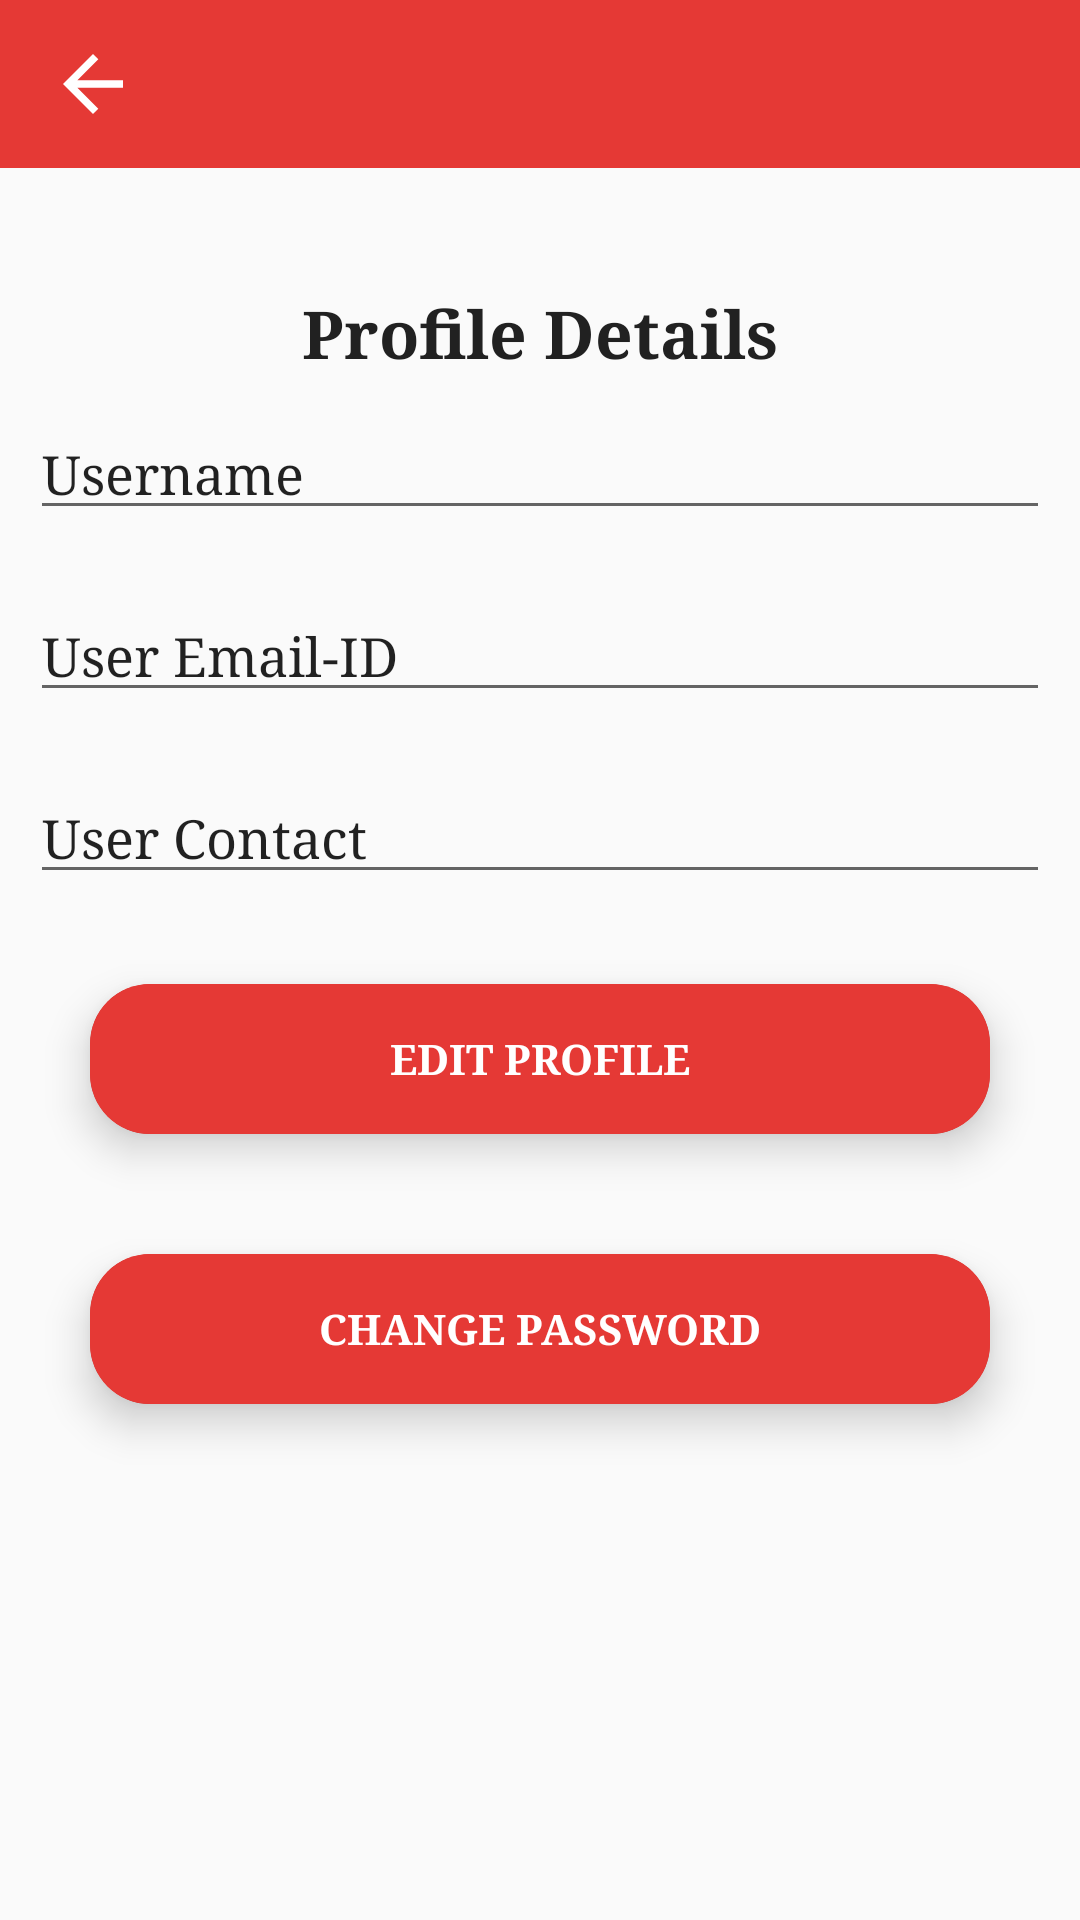

Point at icon controls on the screen. Image size 1080px×1920px, points as (x,y).
arrow back: (93,84)
